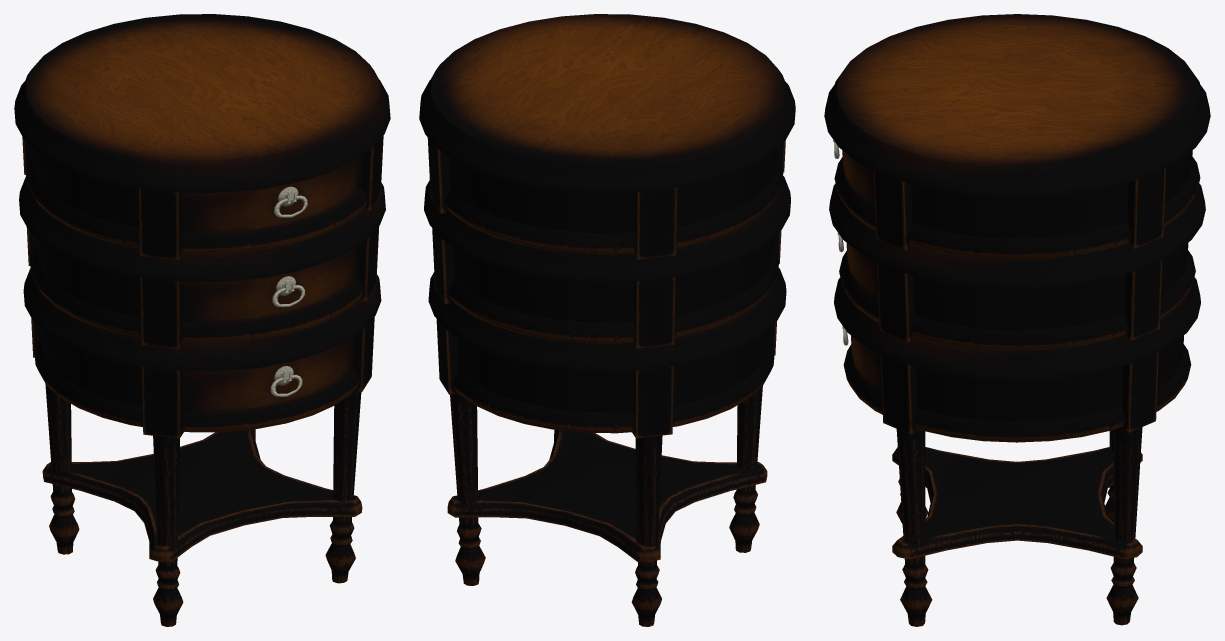
File: table3.glb
3 views of the same model, side by side, from view 1: azimuth 30°, elevation 25°; view 2: azimuth 150°, elevation 25°; view 3: azimuth 270°, elevation 25° (orthographic). The views are drawn at different scales.
Parts seen in each view (by area): view 1: endtable1 top _low.006_endtable1_0; view 2: endtable1 top _low.006_endtable1_0; view 3: endtable1 top _low.006_endtable1_0.
Part boxes in pixels (x1=…): endtable1 top _low.006_endtable1_0: x1=14, y1=14, x2=390, y2=626; endtable1 top _low.006_endtable1_0: x1=419, y1=14, x2=795, y2=626; endtable1 top _low.006_endtable1_0: x1=824, y1=14, x2=1210, y2=626.
Bounding box in the file's own units: 0.5536 × 0.7773 × 0.5536.
Materials: 1 (1 with a texture image).
